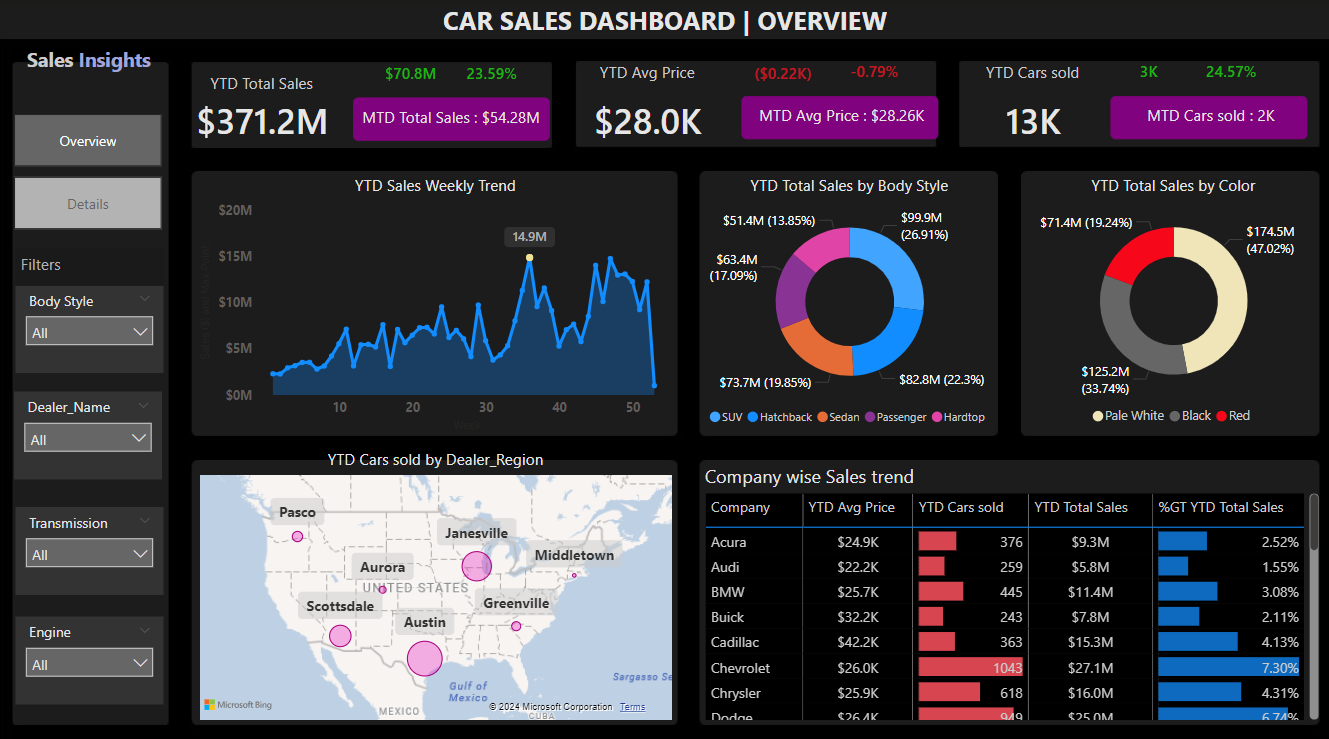

The page's visual inventory and layout, read from the dashboard file:
{"tool":"powerbi","page":{"name":"Overview","canvas":[1280,720],"ordinal":0},"visuals":[{"type":"card","title":"YTD Total Sales","fields":{"Values":["Measure Table.YTD Total Sales"]},"box":[179.7,71.6,149.5,73.2],"z":0},{"type":"card","fields":{"Values":["Measure Table.Sales Difference"]},"box":[340.4,52.5,109.8,42.9],"z":1000},{"type":"card","fields":{"Values":["Measure Table.YOY Sales Growth"]},"box":[418.3,52.5,109.8,42.9],"z":2000},{"type":"card","fields":{"Values":["Measure Table.MTD KPI"]},"box":[340.4,95.4,187.7,41.4],"z":3000},{"type":"card","title":"YTD Avg Price","fields":{"Values":["Measure Table.YTD Avg Price"]},"box":[547.2,62,149.5,92.3],"z":4000},{"type":"card","fields":{"Values":["Measure Table.Avg Price Diff"]},"box":[696.7,52.5,109.8,42.9],"z":5000},{"type":"card","fields":{"Values":["Measure Table.YOY Avg Price Growth"]},"box":[784.2,50.9,109.8,42.9],"z":6000},{"type":"card","fields":{"Values":["Measure Table.MTD Avg Price KPI"]},"box":[712.6,93.8,187.7,41.4],"z":7000},{"type":"card","title":"YTD Cars sold","fields":{"Values":["Measure Table.YTD Cars sold"]},"box":[914.6,62,149.5,92.3],"z":8000},{"type":"card","fields":{"Values":["Measure Table.Cars sold Diff"]},"box":[1045,50.9,109.8,42.9],"z":9000},{"type":"card","fields":{"Values":["Measure Table.YOY Cars sold Growth"]},"box":[1124.6,50.9,109.8,42.9],"z":10000},{"type":"card","fields":{"Values":["Measure Table.MTD Cars sold KPI"]},"box":[1064.1,93.8,187.7,41.4],"z":11000},{"type":"areaChart","title":"YTD Sales Weekly Trend","fields":{"Category":["CALENDAR TABLE.Week"],"Y":["Sum(car_data.Price ($))","Measure Table.Max Point"]},"box":[189.3,168.6,461.3,249.7],"z":12000},{"type":"donutChart","fields":{"Category":["car_data.Body Style"],"Y":["Measure Table.YTD Total Sales"]},"box":[671.2,168.6,286.3,249.7],"z":13000},{"type":"donutChart","fields":{"Y":["Measure Table.YTD Total Sales"],"Category":["car_data.Color"]},"box":[981.4,168.6,286.3,249.7],"z":14000},{"type":"map","fields":{"Category":["car_data.Dealer_Region"],"Size":["Measure Table.YTD Cars sold"]},"box":[189.3,431.1,461.3,264],"z":15000},{"type":"tableEx","title":"Company wise Sales trend","fields":{"Values":["car_data.Company","Measure Table.YTD Avg Price","Measure Table.YTD Cars sold","Measure Table.YTD Total Sales1","Measure Table.YTD Total Sales"]},"box":[671.2,445.4,596.5,249.7],"z":16000},{"type":"textbox","box":[408.8,0,461.3,50.9],"z":17000},{"type":"slicer","fields":{"Values":["car_data.Body Style"]},"box":[19.1,275.2,141.6,84.3],"z":18000},{"type":"slicer","fields":{"Values":["car_data.Dealer_Name"]},"box":[17.5,377,141.6,84.3],"z":19000},{"type":"slicer","fields":{"Values":["car_data.Transmission"]},"box":[19.1,486.7,141.6,84.3],"z":20000},{"type":"slicer","fields":{"Values":["car_data.Engine"]},"box":[19.1,591.7,141.6,84.3],"z":21000},{"type":"textbox","box":[19.1,238.6,141.6,36.6],"z":22000},{"type":"pageNavigator","box":[17.5,111.3,141.6,111.3],"z":23000},{"type":"textbox","box":[19.1,41.4,140,54.1],"z":24000}]}

Visuals, with their boxes in screenshot pixels (x1, y1, x2, y2), scaled from the page's 1280x720 canvas onto the 1329x739 screenshot:
"YTD Total Sales" card: 187/73/342/149
card - Measure Table.Sales Difference: 353/54/467/98
card - Measure Table.YOY Sales Growth: 434/54/548/98
card - Measure Table.MTD KPI: 353/98/548/140
"YTD Avg Price" card: 568/64/723/158
card - Measure Table.Avg Price Diff: 723/54/837/98
card - Measure Table.YOY Avg Price Growth: 814/52/928/96
card - Measure Table.MTD Avg Price KPI: 740/96/935/139
"YTD Cars sold" card: 950/64/1105/158
card - Measure Table.Cars sold Diff: 1085/52/1199/96
card - Measure Table.YOY Cars sold Growth: 1168/52/1282/96
card - Measure Table.MTD Cars sold KPI: 1105/96/1300/139
"YTD Sales Weekly Trend" areaChart: 197/173/676/429
donutChart - car_data.Body Style x Measure Table.YTD Total Sales: 697/173/994/429
donutChart - Measure Table.YTD Total Sales x car_data.Color: 1019/173/1316/429
map - car_data.Dealer_Region x Measure Table.YTD Cars sold: 197/442/676/713
"Company wise Sales trend" tableEx: 697/457/1316/713
textbox: 424/0/903/52
slicer - car_data.Body Style: 20/282/167/369
slicer - car_data.Dealer_Name: 18/387/165/473
slicer - car_data.Transmission: 20/500/167/586
slicer - car_data.Engine: 20/607/167/694
textbox: 20/245/167/282
pageNavigator: 18/114/165/228
textbox: 20/42/165/98
